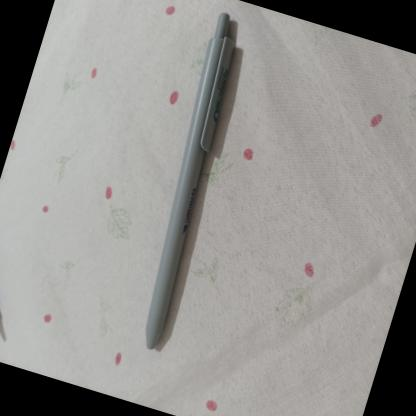pencil: (109, 7, 266, 370)
